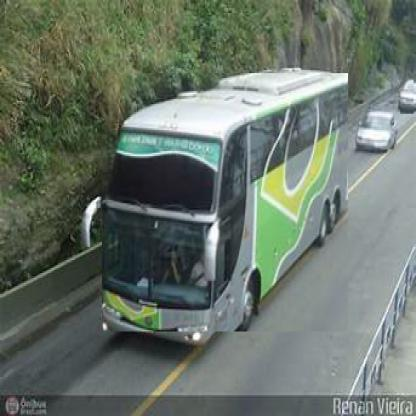bus: (103, 74, 350, 334)
car: (358, 112, 397, 152), (401, 81, 416, 117)
